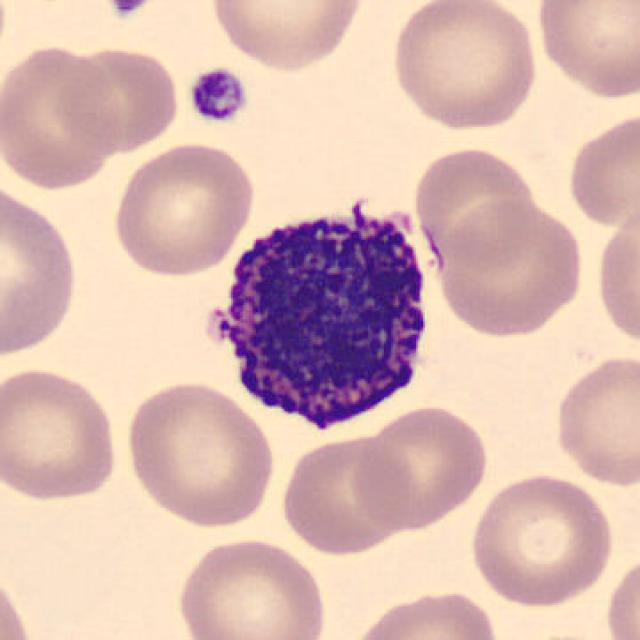Basophil: (192, 188, 446, 442)
Platelets: (185, 65, 251, 125), (104, 0, 156, 19)
RBC: (119, 376, 279, 530), (431, 196, 588, 340), (466, 469, 617, 610), (108, 139, 258, 279), (386, 0, 542, 132), (350, 400, 492, 534), (0, 40, 124, 192), (276, 430, 416, 557), (0, 363, 123, 506), (172, 534, 330, 640), (409, 143, 540, 268), (0, 173, 82, 367), (53, 41, 185, 155), (550, 349, 638, 490), (206, 0, 368, 74), (531, 0, 638, 102), (562, 108, 638, 231), (347, 587, 503, 640), (592, 200, 638, 354), (602, 550, 640, 640), (0, 566, 41, 640), (510, 631, 622, 640)
